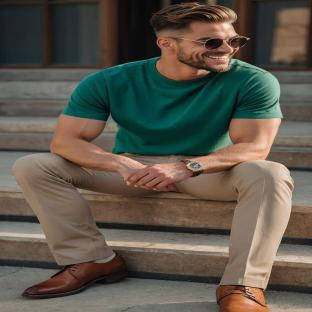Human: (13, 3, 293, 312)
